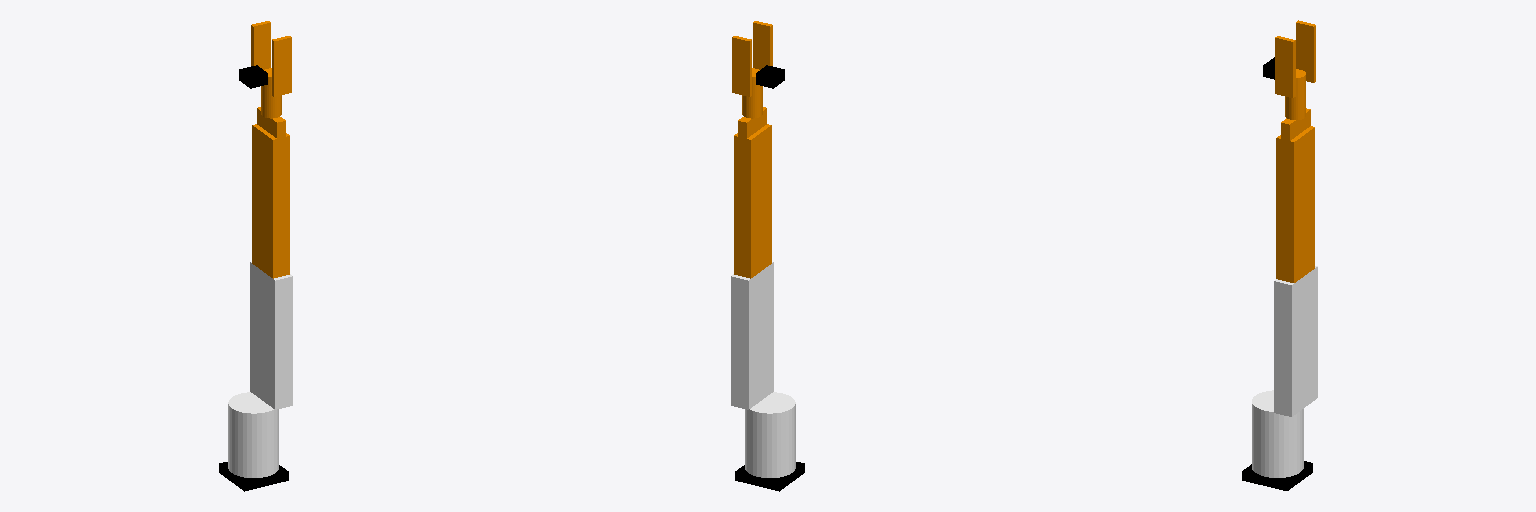
The robot description file, URDF, robot "arips_arm":
<?xml version="1.0" encoding="utf-8"?>
<!-- =================================================================================== -->
<!-- |    This document was autogenerated by xacro from arips_arm.xacro                | -->
<!-- |    EDITING THIS FILE BY HAND IS NOT RECOMMENDED                                 | -->
<!-- =================================================================================== -->
<robot name="arips_arm">
  <material name="white">
    <color rgba="1 1 1 1"/>
  </material>
  <material name="black">
    <color rgba="0 0 0 1"/>
  </material>
  <material name="orange">
    <color rgba="1 0.6 0 1"/>
  </material>
  <link name="arm_base_link">
    <visual>
      <geometry>
        <box size="0.05 0.05 0.01"/>
      </geometry>
      <origin xyz="0 0 0.005"/>
      <material name="black"/>
    </visual>
  </link>
  <link name="link2">
    <visual>
      <geometry>
        <cylinder length="0.07" radius="0.025"/>
      </geometry>
      <origin xyz="0 0 0.035"/>
      <material name="white"/>
    </visual>
  </link>
  <link name="link3">
    <visual>
      <geometry>
        <box size="0.02 0.05 0.14"/>
      </geometry>
      <origin xyz="0 0 0.07"/>
      <material name="white"/>
    </visual>
  </link>
  <link name="link4">
    <visual>
      <geometry>
        <box size="0.02 0.04 0.15"/>
      </geometry>
      <origin xyz="0 0 0.075"/>
      <material name="orange"/>
    </visual>
  </link>
  <link name="link5">
    <visual>
      <geometry>
        <box size="0.01 0.04 0.035"/>
      </geometry>
      <origin xyz="0 0 0"/>
      <material name="orange"/>
    </visual>
  </link>
  <link name="link6">
    <visual>
      <geometry>
        <cylinder length="0.045" radius="0.01"/>
      </geometry>
      <origin xyz="0 0 0.0225"/>
      <material name="orange"/>
    </visual>
  </link>
  <link name="tool0">
    <visual>
      <geometry>
        <box size="0.012 0.022 0.02"/>
      </geometry>
      <origin xyz="-0.04 0 0.02"/>
      <material name="black"/>
    </visual>
  </link>
  <joint name="joint1" type="revolute">
    <parent link="arm_base_link"/>
    <child link="link2"/>
    <axis xyz="0 0 1"/>
    <origin xyz="0 0 0.01"/>
    <limit effort="1000.0" lower="-1.41371669412" upper="1.41371669412" velocity="1.0"/>
  </joint>
  <joint name="joint2" type="revolute">
    <parent link="link2"/>
    <child link="link3"/>
    <axis xyz="0 1 0"/>
    <origin xyz="0.02 0 0.07"/>
    <limit effort="1000.0" lower="-0.95" upper="2.1" velocity="1.0"/>
  </joint>
  <joint name="joint3" type="revolute">
    <parent link="link3"/>
    <child link="link4"/>
    <axis xyz="0 1 0"/>
    <origin xyz="0 0 0.14"/>
    <limit effort="1000.0" lower="-1.50796447372" upper="3.0" velocity="1.0"/>
  </joint>
  <joint name="joint4" type="revolute">
    <parent link="link4"/>
    <child link="link5"/>
    <axis xyz="0 1 0"/>
    <origin xyz="0 0 0.15"/>
    <limit effort="1000.0" lower="-1.57079632679" upper="1.57079632679" velocity="1.0"/>
  </joint>
  <joint name="joint5" type="revolute">
    <parent link="link5"/>
    <child link="link6"/>
    <axis xyz="0 0 1"/>
    <origin xyz="0 0 0.0175"/>
    <limit effort="1000.0" lower="-1.57079632679" upper="1.57079632679" velocity="1.0"/>
  </joint>
  <joint name="link6-tool0" type="fixed">
    <parent link="link6"/>
    <child link="tool0"/>
    <origin rpy="0 -1.57075 0" xyz="0 0 0.085"/>
  </joint>
  <joint name="tool0_gripper" type="fixed">
    <parent link="tool0"/>
    <child link="gripper_base"/>
    <origin rpy="0 0 0" xyz="0.0 0 0"/>
  </joint>
  <joint name="gripper_joint" type="revolute">
    <parent link="gripper_base"/>
    <child link="gripper_link_left"/>
    <axis xyz="0 0 1"/>
    <origin xyz="-0.055 0.02 0"/>
    <limit effort="1000.0" lower="0" upper="0.3" velocity="1.0"/>
  </joint>
  <joint name="gripper_joint_right" type="revolute">
    <mimic joint="gripper_joint" multiplier="-1"/>
    <parent link="gripper_base"/>
    <child link="gripper_link_right"/>
    <axis xyz="0 0 1"/>
    <origin xyz="-0.055 -0.02 0"/>
    <limit effort="1000.0" lower="0.3" upper="0" velocity="1.0"/>
  </joint>
  <link name="gripper_base">
   </link>
  <link name="gripper_link_left">
    <visual>
      <geometry>
        <box size="0.06 0.005 0.02"/>
      </geometry>
      <origin xyz="0.03 0 0"/>
      <material name="orange"/>
    </visual>
  </link>
  <link name="gripper_link_right">
    <visual>
      <geometry>
        <box size="0.06 0.005 0.02"/>
      </geometry>
      <origin xyz="0.03 0 0"/>
      <material name="orange"/>
    </visual>
  </link>
</robot>

--- Facts derived from the render (not from the file) ---
Views: 3 orthographic renders of the robot side by side, from view 1: azimuth 30°, elevation 25°; view 2: azimuth 150°, elevation 25°; view 3: azimuth 330°, elevation 25°.
Model arips_arm with 10 links and 9 joints (7 revolute, 2 fixed), rooted at arm_base_link, posed every joint at zero.
Visible links, largest first — view 1: link3, link4, link2, gripper_link_right, gripper_link_left, arm_base_link, link6; view 2: link3, link4, link2, gripper_link_left, gripper_link_right, arm_base_link, link6; view 3: link3, link4, link2, gripper_link_right, gripper_link_left, arm_base_link, link6, link5.
Link boxes in pixels (box(x1,y1,x2,y2)): link3: box(250, 262, 292, 409); link4: box(252, 124, 289, 278); link2: box(228, 392, 278, 477); gripper_link_right: box(272, 36, 291, 96); gripper_link_left: box(251, 21, 270, 69); arm_base_link: box(219, 462, 288, 491); link6: box(261, 68, 281, 118); link3: box(731, 262, 773, 409); link4: box(734, 124, 771, 278); link2: box(745, 392, 795, 477); gripper_link_left: box(732, 36, 751, 96); gripper_link_right: box(753, 21, 772, 69); arm_base_link: box(735, 462, 804, 491); link6: box(742, 68, 762, 118); link3: box(1274, 266, 1317, 416); link4: box(1276, 126, 1314, 282); link2: box(1252, 390, 1303, 477); gripper_link_right: box(1275, 36, 1295, 97); gripper_link_left: box(1296, 20, 1315, 82); arm_base_link: box(1242, 461, 1312, 490); link6: box(1285, 69, 1305, 119); link5: box(1281, 108, 1310, 156).
Bounding box of the posed robot: 0.055 × 0.05 × 0.4775 m (x, y, z).
Geometry: primitives only (box / cylinder / sphere), no mesh files.
